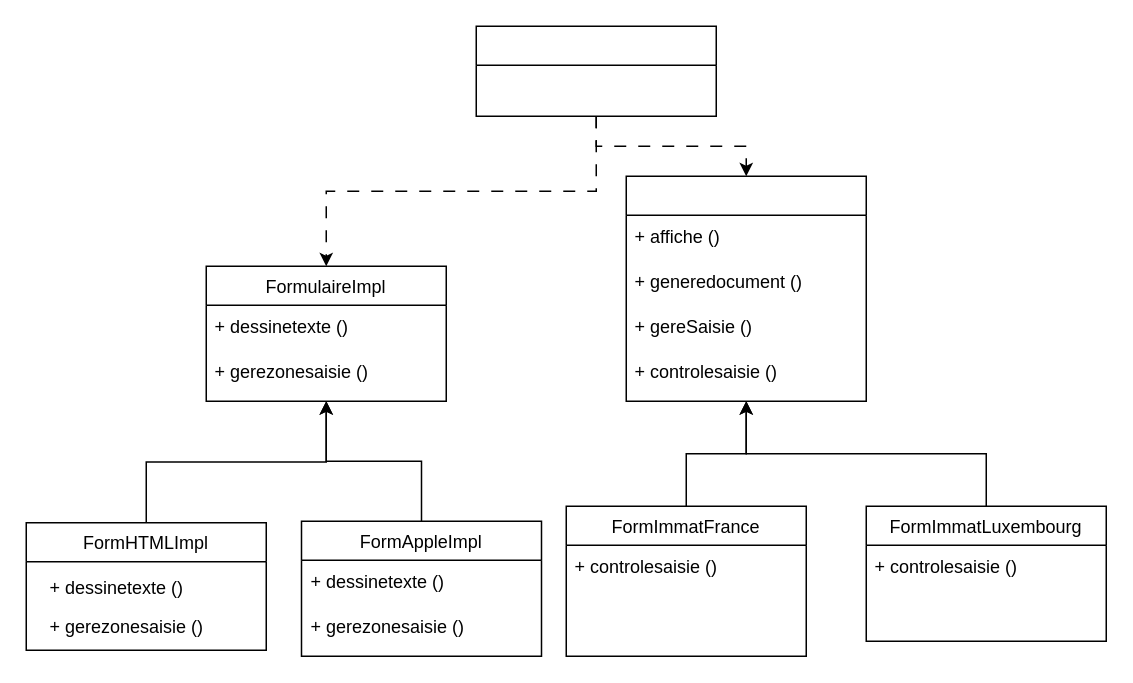
Image size: 1133x683. Some labels were removed from this diagram. Each missing label, with the box of its shape:
FormulaireImmatriculation: (625, 175, 866, 401)
Utilisateur: (475, 25, 716, 116)
